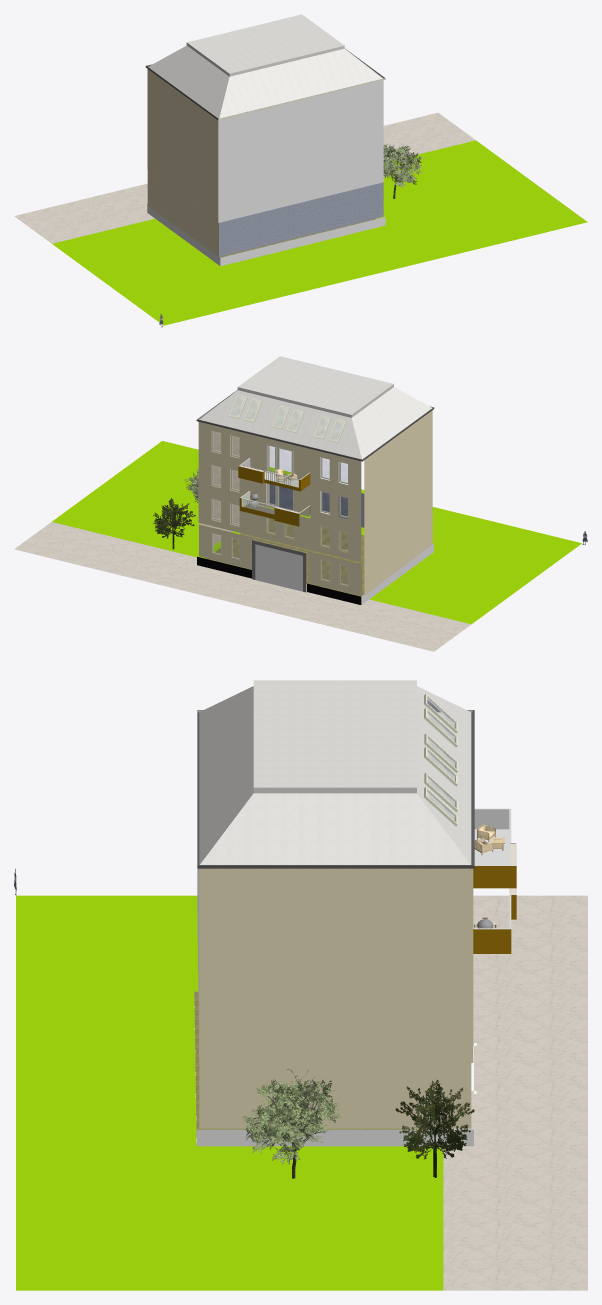
Rendered from Light building1a.glb.
3 views of the same model, one above another, from view 1: azimuth 30°, elevation 25°; view 2: azimuth 150°, elevation 25°; view 3: azimuth 270°, elevation 25° (orthographic). The views are drawn at different scales.
Parts seen in each view (by area): view 1: Geom3D_289, Geom3D_277, Geom3D_228, Geom3D_283, Geom3D_287, Geom3D_237, Geom3D_236; view 2: Geom3D_289, Geom3D_283, Geom3D_287, Geom3D_228, Geom3D_236, Geom3D_277, Geom3D_288, Geom3D_272, Geom3D_275, Geom3D_286, Geom3D_237, Geom3D_273 (+4 smaller); view 3: Geom3D_289, Geom3D_236, Geom3D_287, Geom3D_228, Geom3D_283, Geom3D_277, Geom3D_273, Geom3D_275, Geom3D_22, Geom3D_23, Geom3D_276, Geom3D_288.
Part boxes in pixels (box(x1,y1,x2,y2)): Geom3D_289: box(52, 140, 587, 325); Geom3D_277: box(147, 80, 385, 266); Geom3D_228: box(148, 14, 382, 118); Geom3D_283: box(147, 69, 218, 221); Geom3D_287: box(14, 112, 475, 243); Geom3D_237: box(219, 182, 383, 256); Geom3D_236: box(147, 171, 218, 256); Geom3D_289: box(52, 441, 581, 624); Geom3D_283: box(198, 410, 432, 562); Geom3D_287: box(14, 522, 470, 651); Geom3D_228: box(199, 356, 432, 459); Geom3D_236: box(199, 431, 432, 595); Geom3D_277: box(255, 457, 433, 604); Geom3D_288: box(206, 513, 364, 596); Geom3D_272: box(231, 396, 344, 512); Geom3D_275: box(238, 466, 310, 526); Geom3D_286: box(197, 556, 361, 604); Geom3D_237: box(269, 484, 364, 527); Geom3D_273: box(196, 390, 434, 461); Geom3D_289: box(16, 895, 443, 1290); Geom3D_236: box(199, 868, 471, 1128); Geom3D_287: box(443, 895, 587, 1290); Geom3D_228: box(199, 680, 471, 864); Geom3D_283: box(199, 868, 473, 1062); Geom3D_277: box(194, 868, 473, 1146); Geom3D_273: box(197, 710, 474, 868); Geom3D_275: box(473, 866, 516, 953); Geom3D_22: box(395, 1080, 470, 1177); Geom3D_23: box(399, 1081, 474, 1177); Geom3D_276: box(473, 808, 516, 929); Geom3D_288: box(194, 991, 442, 1129).
Size of the model in its own units: 52.18 by 20.47 by 31.64.
Materials: 54 (18 with a texture image).
